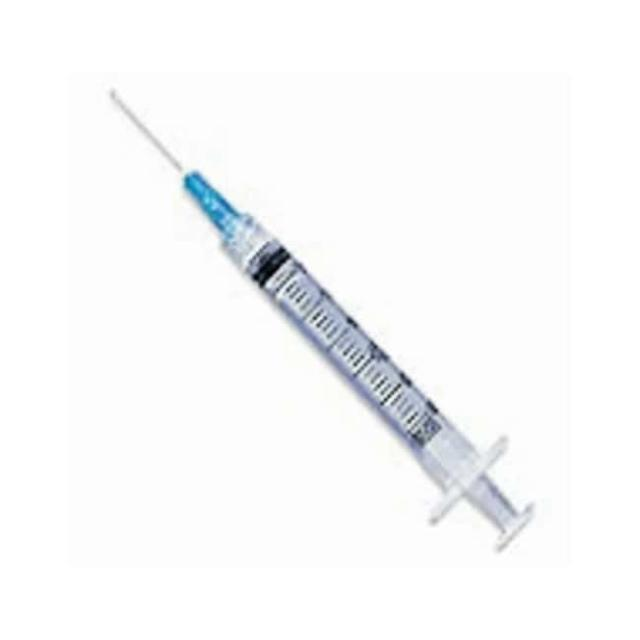syringe: (106, 84, 536, 553)
